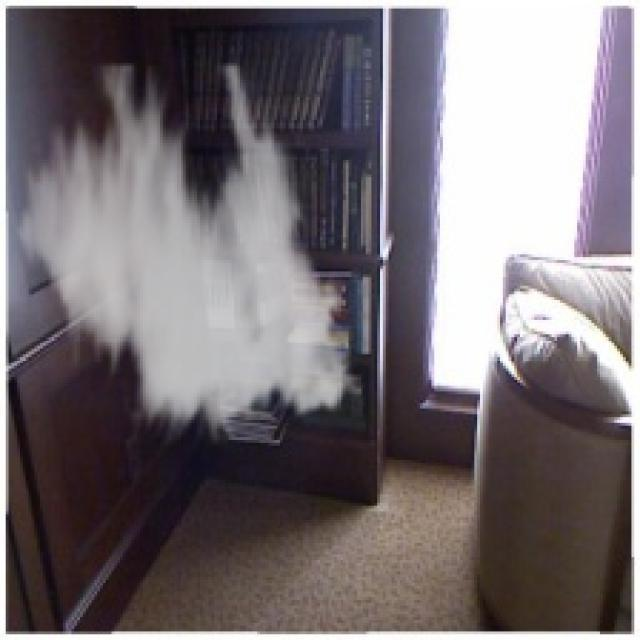Smoke: (6, 63, 368, 446)
